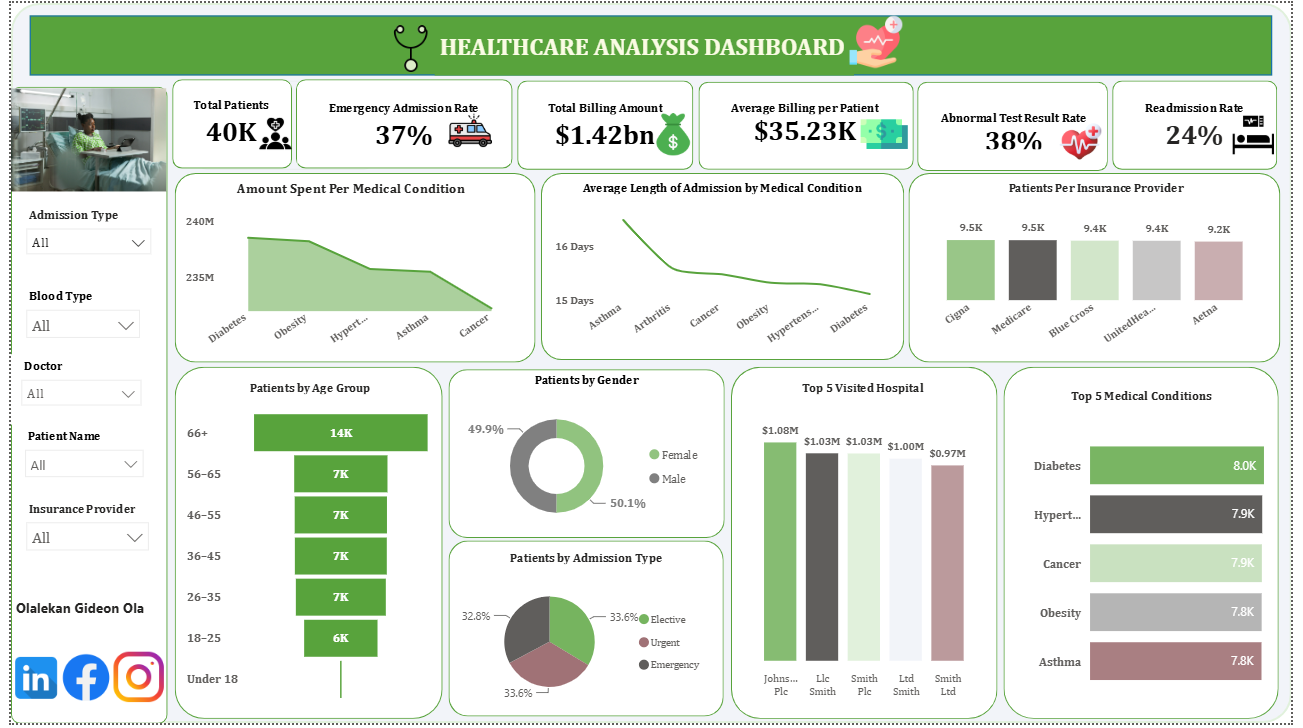

Layout of this report page (visuals, bound fields, positions):
{"tool":"powerbi","page":{"name":"DASHBOARD","canvas":[1280,720],"ordinal":2},"visuals":[{"type":"shape","box":[185.9,77,176.1,89.3],"z":0,"group":"g2"},{"type":"shape","box":[0,0,1280.8,720],"z":1000,"group":"g2"},{"type":"shape","box":[18.3,12.2,1242.4,59.9],"z":2000,"group":"g2"},{"type":"textbox","box":[424.3,23.2,419.4,48.9],"z":3000,"group":"g2"},{"type":"shape","box":[161.4,75.8,119.8,89.3],"z":4000,"group":"g2"},{"type":"cardVisual","fields":{"Data":["healthcare_dataset.Total Patients"]},"box":[165.1,80.7,114.2,78.2],"z":5000,"group":"g2"},{"type":"shape","box":[0,83.7,156.5,637.1],"z":6000,"group":"g1"},{"type":"shape","box":[529.5,170,363.2,187.1],"z":7000,"group":"g2"},{"type":"shape","box":[163.9,170,360.7,189.5],"z":8000,"group":"g2"},{"type":"shape","box":[284.9,75.8,216.4,89.3],"z":9000,"group":"g2"},{"type":"shape","box":[897.6,170,371.7,189.5],"z":10000,"group":"g2"},{"type":"shape","box":[163.9,363.2,267.8,352.2],"z":11000,"group":"g2"},{"type":"shape","box":[437.8,366.8,276.4,168.8],"z":12000,"group":"g2"},{"type":"shape","box":[720.2,363.2,266.6,352.2],"z":13000,"group":"g2"},{"type":"shape","box":[506.3,77,176.1,89.3],"z":14000,"group":"g2"},{"type":"shape","box":[992.9,363.2,275.1,352.2],"z":15000,"group":"g2"},{"type":"shape","box":[437.8,538,275.1,176.1],"z":16000,"group":"g2"},{"type":"cardVisual","fields":{"Data":["healthcare_dataset.Total Billing Amount"]},"box":[509.9,85.6,168.8,75.8],"z":17000,"group":"g2"},{"type":"cardVisual","fields":{"Data":["healthcare_dataset.Emergency Admission Rate"]},"box":[286.1,83.2,214,77],"z":18000,"group":"g2"},{"type":"shape","box":[687.2,78.3,215.2,88],"z":19000,"group":"g2"},{"type":"shape","box":[906.1,78.3,190.8,89.3],"z":20000,"group":"g2"},{"type":"shape","box":[1101.8,77,165.1,89.3],"z":21000,"group":"g2"},{"type":"cardVisual","fields":{"Data":["healthcare_dataset.Readmission Rate"]},"box":[1106.7,84.4,154.1,75.8],"z":22000,"group":"g2"},{"type":"cardVisual","fields":{"Data":["healthcare_dataset.Abnormal Test Result Rate"]},"box":[912.2,81.9,181,81.9],"z":23000,"group":"g2"},{"type":"cardVisual","fields":{"Data":["healthcare_dataset.Average Billing per Patient"]},"box":[686,79.5,215.2,80.7],"z":24000,"group":"g2"},{"type":"pieChart","title":"Patients by Admission Type","fields":{"Category":["healthcare_dataset.Admission Type"],"Y":["healthcare_dataset.Total Patients"]},"box":[445.1,547.8,260.5,157.7],"z":25000,"group":"g2"},{"type":"donutChart","title":"Patients by Gender","fields":{"Category":["healthcare_dataset.Gender"],"Y":["healthcare_dataset.Total Patients"]},"box":[448.8,370.5,253.1,161.4],"z":26000,"group":"g2"},{"type":"clusteredBarChart","title":"Top 5 Medical Conditions","fields":{"Category":["healthcare_dataset.Medical Condition"],"Y":["healthcare_dataset.Total Patients"]},"box":[1001.5,386.4,258,316.7],"z":27000,"group":"g2"},{"type":"funnel","title":"Patients by Age Group","fields":{"Y":["healthcare_dataset.Total Patients"],"Category":["healthcare_dataset.Age Group"]},"box":[171.2,377.9,255.6,326.5],"z":28000,"group":"g2"},{"type":"areaChart","title":"Amount Spent Per Medical Condition","fields":{"Category":["healthcare_dataset.Medical Condition"],"Y":["healthcare_dataset.Total Billing Amount"]},"box":[170,177.3,339.9,173.6],"z":29000,"group":"g2"},{"type":"lineChart","title":"Average Length of Admission by Medical Condition","fields":{"Category":["healthcare_dataset.Medical Condition"],"Y":["healthcare_dataset.Average Length of Stay"]},"box":[539.3,177.3,344.8,173.6],"z":30000,"group":"g2"},{"type":"clusteredColumnChart","title":"Patients Per Insurance Provider","fields":{"Y":["healthcare_dataset.Total Patients"],"Category":["healthcare_dataset.Insurance Provider"]},"box":[906.1,177.3,357.1,173.6],"z":31000,"group":"g2"},{"type":"clusteredColumnChart","title":"Top 5 Visited Hospital","fields":{"Category":["healthcare_dataset.Hospital"],"Y":["healthcare_dataset.Total Billing Amount"]},"box":[727.6,377.9,248.2,325.3],"z":32000,"group":"g2"},{"type":"image","box":[793.8,12.5,142.5,52.5],"z":35000,"group":"g2"},{"type":"image","box":[0,61.2,155,151.2],"z":36000,"group":"g1"},{"type":"image","box":[211.2,113.8,106.2,33.8],"z":36002,"group":"g2"},{"type":"image","box":[336.2,18.8,127.5,53.8],"z":36003,"group":"g2"},{"type":"group","id":"g1","title":"Group 1","box":[0,61.2,156.5,659.6],"z":36005,"group":"g2"},{"type":"group","id":"g2","title":"Group 2","box":[0,0,1280.8,720.8],"z":36006},{"type":"image","box":[408.8,105,101.2,45],"z":36007,"group":"g2"},{"type":"image","box":[1037.5,117.5,63.8,41.2],"z":36007},{"type":"image","box":[840,107.5,66.2,47.5],"z":36008},{"type":"image","box":[633.8,110,56.2,42.5],"z":36009},{"type":"image","box":[1216.2,110,52.5,43.8],"z":36010},{"type":"slicer","fields":{"Values":["healthcare_dataset.Admission Type"]},"box":[5,200,145,65],"z":36011},{"type":"slicer","fields":{"Values":["healthcare_dataset.Blood Type"]},"box":[5,281.2,133.8,70],"z":36012},{"type":"slicer","fields":{"Values":["healthcare_dataset.Doctor"]},"box":[0,351.2,140,70],"z":36013},{"type":"slicer","fields":{"Values":["healthcare_dataset.Name"]},"box":[3.8,421.2,138.8,72.5],"z":36014},{"type":"slicer","fields":{"Values":["healthcare_dataset.Insurance Provider"]},"box":[5,493.8,142.5,58.8],"z":36015},{"type":"image","box":[102.5,637.5,50,72.5],"z":36016},{"type":"image","box":[47.5,650,55,48.8],"z":36017},{"type":"image","box":[0,650,51.2,48.8],"z":36018},{"type":"textbox","box":[0,591.2,153.8,35],"z":36019}]}

Visuals, with their boxes in screenshot pixels (x1, y1, x2, y2), scaled from the page's 1280x720 canvas onto the 1303x728 screenshot:
shape: x1=189, y1=78, x2=369, y2=168
shape: x1=0, y1=0, x2=1302, y2=727
shape: x1=19, y1=12, x2=1283, y2=73
textbox: x1=432, y1=23, x2=859, y2=73
shape: x1=164, y1=77, x2=286, y2=167
cardVisual - healthcare_dataset.Total Patients: x1=168, y1=82, x2=284, y2=161
shape: x1=0, y1=85, x2=159, y2=727
shape: x1=539, y1=172, x2=909, y2=361
shape: x1=167, y1=172, x2=534, y2=363
shape: x1=290, y1=77, x2=510, y2=167
shape: x1=914, y1=172, x2=1292, y2=363
shape: x1=167, y1=367, x2=439, y2=723
shape: x1=446, y1=371, x2=727, y2=542
shape: x1=733, y1=367, x2=1005, y2=723
shape: x1=515, y1=78, x2=695, y2=168
shape: x1=1011, y1=367, x2=1291, y2=723
shape: x1=446, y1=544, x2=726, y2=722
cardVisual - healthcare_dataset.Total Billing Amount: x1=519, y1=87, x2=691, y2=163
cardVisual - healthcare_dataset.Emergency Admission Rate: x1=291, y1=84, x2=509, y2=162
shape: x1=700, y1=79, x2=919, y2=168
shape: x1=922, y1=79, x2=1117, y2=169
shape: x1=1122, y1=78, x2=1290, y2=168
cardVisual - healthcare_dataset.Readmission Rate: x1=1127, y1=85, x2=1283, y2=162
cardVisual - healthcare_dataset.Abnormal Test Result Rate: x1=929, y1=83, x2=1113, y2=166
cardVisual - healthcare_dataset.Average Billing per Patient: x1=698, y1=80, x2=917, y2=162
"Patients by Admission Type" pieChart: x1=453, y1=554, x2=718, y2=713
"Patients by Gender" donutChart: x1=457, y1=375, x2=715, y2=538
"Top 5 Medical Conditions" clusteredBarChart: x1=1019, y1=391, x2=1282, y2=711
"Patients by Age Group" funnel: x1=174, y1=382, x2=434, y2=712
"Amount Spent Per Medical Condition" areaChart: x1=173, y1=179, x2=519, y2=355
"Average Length of Admission by Medical Condition" lineChart: x1=549, y1=179, x2=900, y2=355
"Patients Per Insurance Provider" clusteredColumnChart: x1=922, y1=179, x2=1286, y2=355
"Top 5 Visited Hospital" clusteredColumnChart: x1=741, y1=382, x2=993, y2=711
image: x1=808, y1=13, x2=953, y2=66
image: x1=0, y1=62, x2=158, y2=215
image: x1=215, y1=115, x2=323, y2=149
image: x1=342, y1=19, x2=472, y2=73
"Group 1" group: x1=0, y1=62, x2=159, y2=727
"Group 2" group: x1=0, y1=0, x2=1302, y2=727
image: x1=416, y1=106, x2=519, y2=152
image: x1=1056, y1=119, x2=1121, y2=160
image: x1=855, y1=109, x2=922, y2=157
image: x1=645, y1=111, x2=702, y2=154
image: x1=1238, y1=111, x2=1291, y2=156
slicer - healthcare_dataset.Admission Type: x1=5, y1=202, x2=153, y2=268
slicer - healthcare_dataset.Blood Type: x1=5, y1=284, x2=141, y2=355
slicer - healthcare_dataset.Doctor: x1=0, y1=355, x2=143, y2=426
slicer - healthcare_dataset.Name: x1=4, y1=426, x2=145, y2=499
slicer - healthcare_dataset.Insurance Provider: x1=5, y1=499, x2=150, y2=559
image: x1=104, y1=645, x2=155, y2=718
image: x1=48, y1=657, x2=104, y2=707
image: x1=0, y1=657, x2=52, y2=707
textbox: x1=0, y1=598, x2=157, y2=633
